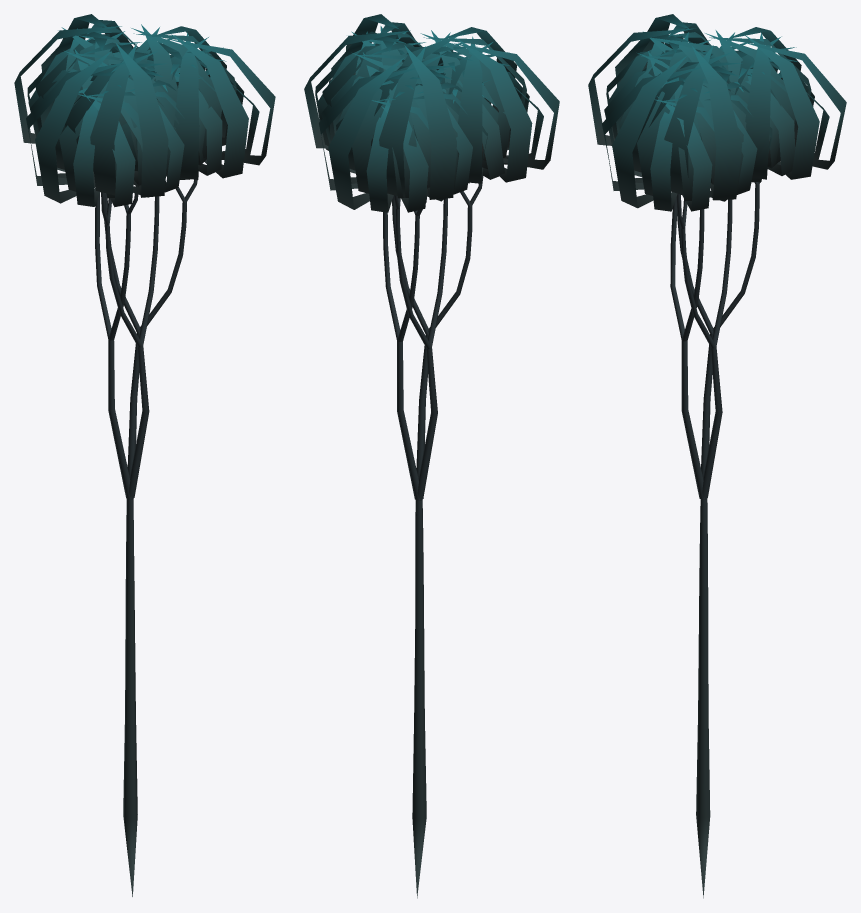
Rendered from plants-flowers-teal-globe-flower_v4.glb.
3 views of the same model, side by side, from view 1: azimuth 30°, elevation 25°; view 2: azimuth 150°, elevation 25°; view 3: azimuth 270°, elevation 25° (orthographic).
Parts seen in each view (by area): view 1: Teal Globe Flower_v4; view 2: Teal Globe Flower_v4; view 3: Teal Globe Flower_v4.
Part boxes in pixels (x1,y1,x2,y2): Teal Globe Flower_v4: (14, 14, 275, 896); Teal Globe Flower_v4: (304, 14, 559, 898); Teal Globe Flower_v4: (588, 14, 846, 898).
Bounding box in the file's own units: 0.1632 × 0.6 × 0.1634.
